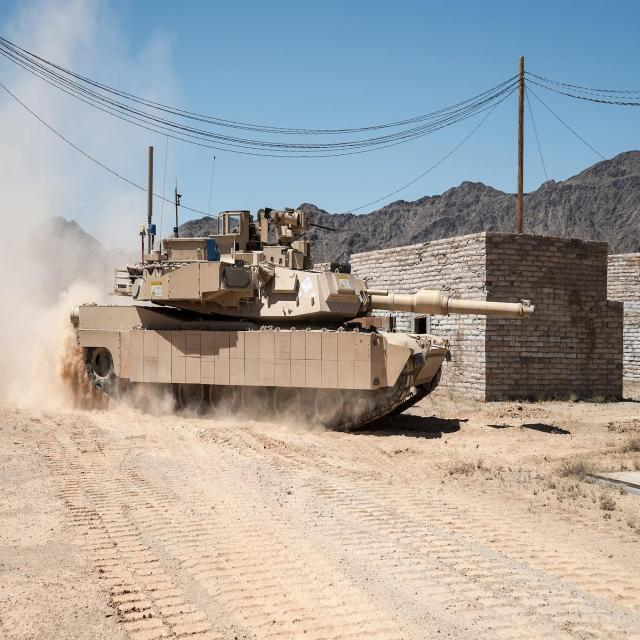MIL_MBT: (40, 137, 556, 546)
